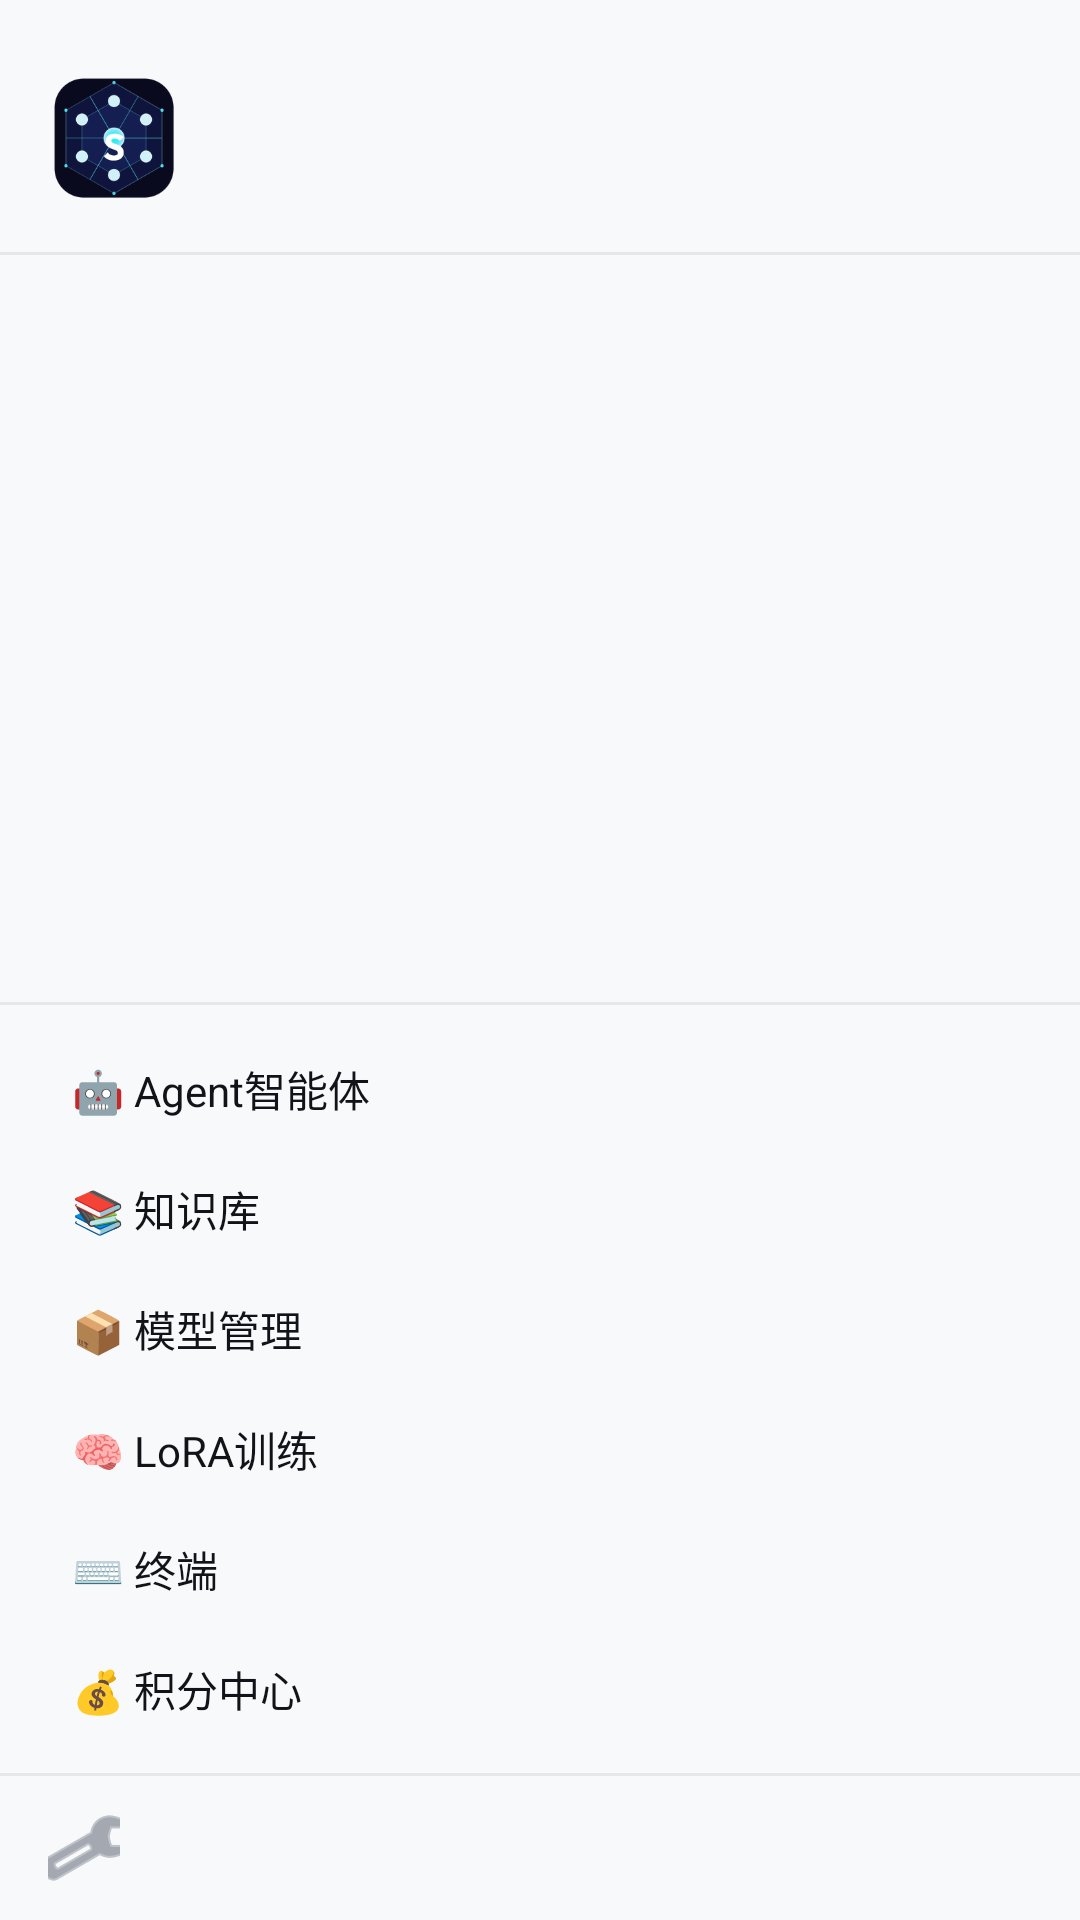

Where icons sit on this 1080×1920 app screen, as (left=x1, top=y1, right=x2, bottom=y2):
preferences: (left=48, top=1815, right=120, bottom=1881)
